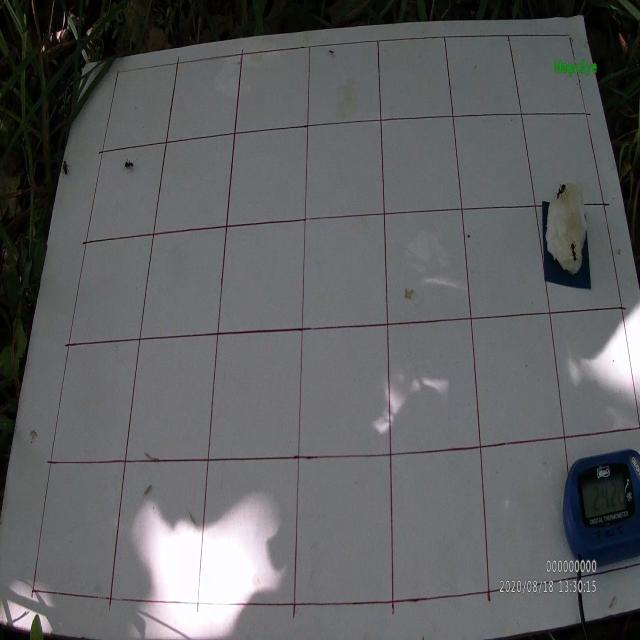Ant: (567, 238, 579, 266), (553, 182, 569, 203), (61, 158, 71, 178), (124, 157, 137, 172)
